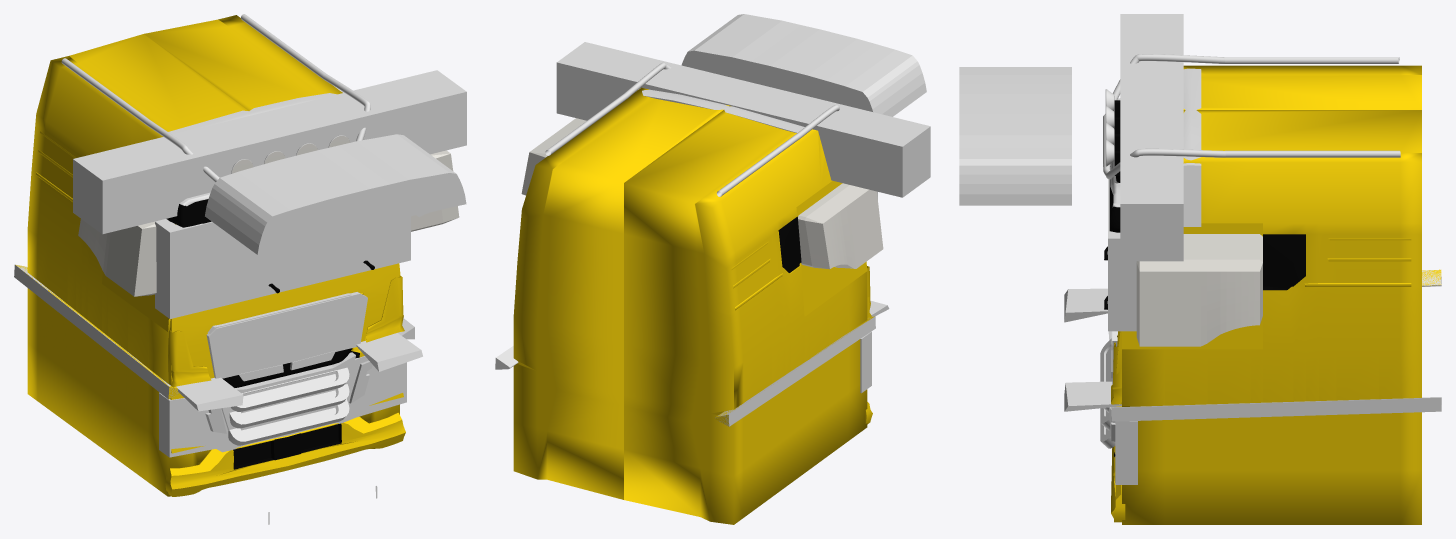
The model's file is Trucker1.fbx.
3 views of the same model, side by side, from view 1: azimuth 30°, elevation 25°; view 2: azimuth 150°, elevation 25°; view 3: azimuth 270°, elevation 25° (orthographic). The views are drawn at different scales.
Visible parts, largest first — view 1: Cube, Cube.015, Cube.009, Cube.024, Vert, Vert.003, Cube.008, Cube.007, Cube.026, Cube.027, Cube.025, Vert.006 (+10 smaller); view 2: Cube, Cube.015, Cube.009, Cube.026, Vert.006, Top curves, Cube.011, Cube.007; view 3: Cube, Cube.009, Cube.015, Cube.026, Vert.006, Top curves, Cube.011, Cube.027, Cube.024, Cube.007, Cube.010, Cylinder.001 (+1 smaller).
Boxes of the visible parts, x1=… form: Cube: x1=16, y1=15, x2=399, y2=496; Cube.015: x1=73, y1=70, x2=466, y2=234; Cube.009: x1=205, y1=134, x2=466, y2=254; Cube.024: x1=155, y1=216, x2=410, y2=318; Vert: x1=206, y1=292, x2=367, y2=378; Vert.003: x1=165, y1=412, x2=405, y2=496; Cube.008: x1=168, y1=263, x2=400, y2=384; Cube.007: x1=159, y1=356, x2=406, y2=457; Cube.026: x1=78, y1=150, x2=459, y2=296; Cube.027: x1=176, y1=333, x2=422, y2=411; Cube.025: x1=168, y1=275, x2=404, y2=387; Vert.006: x1=14, y1=264, x2=414, y2=399; Cube: x1=513, y1=87, x2=874, y2=524; Cube.015: x1=556, y1=42, x2=930, y2=197; Cube.009: x1=681, y1=14, x2=926, y2=116; Cube.026: x1=521, y1=118, x2=883, y2=269; Vert.006: x1=495, y1=316, x2=875, y2=426; Top curves: x1=545, y1=62, x2=839, y2=196; Cube.011: x1=638, y1=88, x2=804, y2=132; Cube.007: x1=860, y1=331, x2=871, y2=393; Cube: x1=1122, y1=65, x2=1441, y2=524; Cube.009: x1=959, y1=67, x2=1071, y2=205; Cube.015: x1=1120, y1=14, x2=1183, y2=261; Cube.026: x1=1136, y1=234, x2=1262, y2=346; Vert.006: x1=1111, y1=269, x2=1441, y2=421; Top curves: x1=1103, y1=54, x2=1400, y2=179; Cube.011: x1=1183, y1=68, x2=1201, y2=226; Cube.027: x1=1064, y1=288, x2=1121, y2=411; Cube.024: x1=1108, y1=179, x2=1136, y2=331; Cube.007: x1=1115, y1=421, x2=1137, y2=484; Cube.010: x1=1109, y1=98, x2=1120, y2=232; Cylinder.001: x1=1105, y1=89, x2=1114, y2=166.
Bounding box in the file's own units: 210 × 194 × 224.
